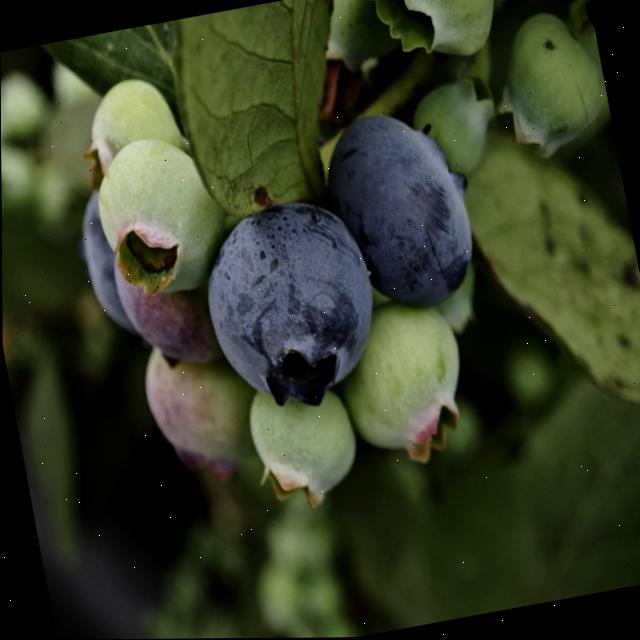RipeBlueBerry: (193, 192, 385, 409), (332, 99, 483, 315)
UnripeBlueBerry: (85, 131, 224, 306)
